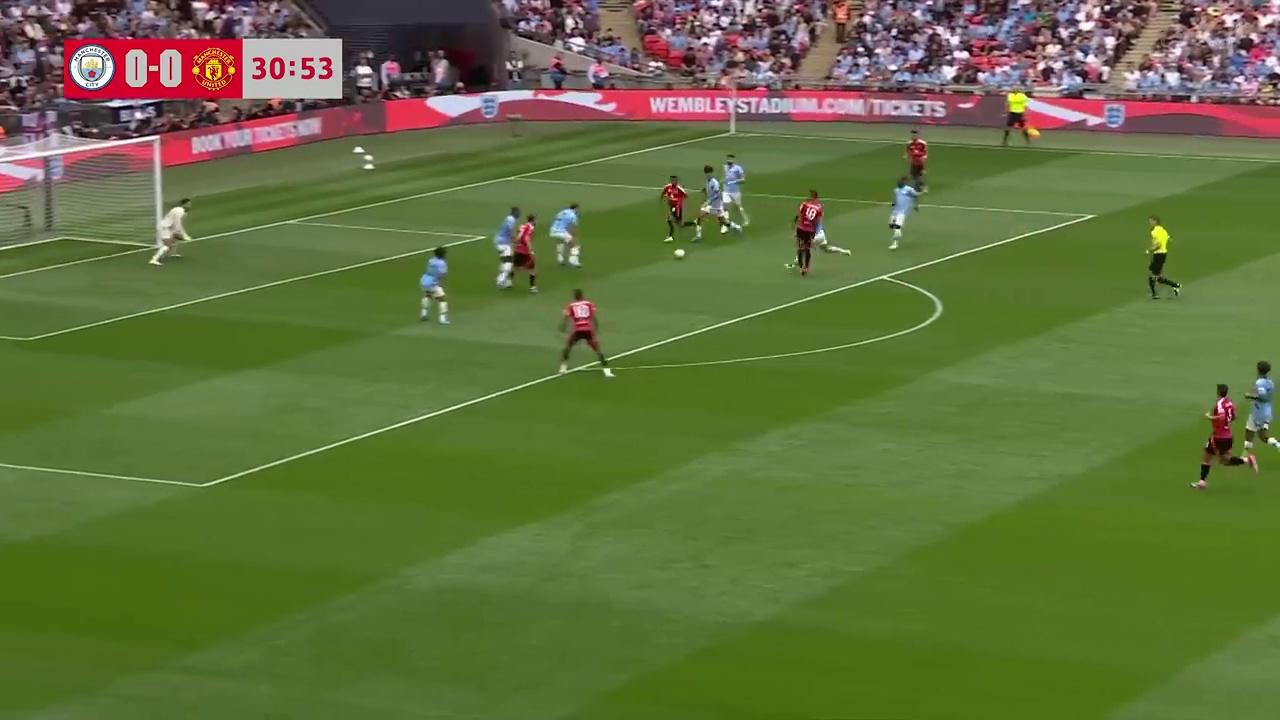ball: (672, 245, 686, 260)
player: (1190, 383, 1245, 488), (556, 288, 615, 376), (1243, 361, 1279, 468), (694, 168, 744, 238), (791, 190, 832, 273), (494, 206, 532, 290), (149, 198, 192, 266), (504, 210, 538, 293), (418, 246, 450, 324), (790, 191, 818, 276), (887, 175, 918, 249), (720, 153, 748, 231), (548, 202, 581, 268), (659, 174, 690, 242), (903, 131, 929, 196)
referee: (1144, 216, 1180, 299), (1001, 94, 1034, 145)
